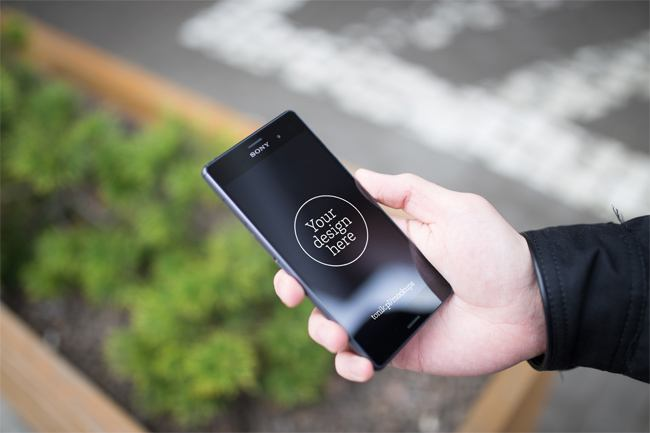phone: (193, 104, 549, 388)
